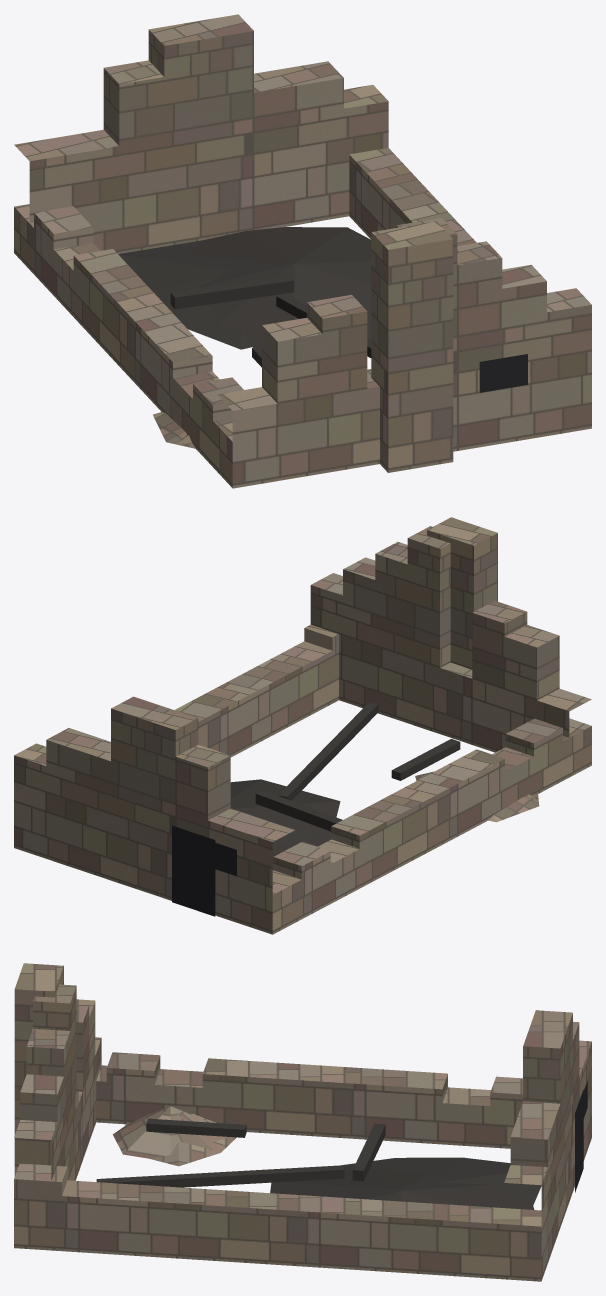
The picture shows the model from 3 angles, top to bottom: view 1: azimuth 30°, elevation 25°; view 2: azimuth 150°, elevation 25°; view 3: azimuth 270°, elevation 25°; orthographic projection. The views are drawn at different scales.
Visible parts, largest first — view 1: b001078_ruin_wall, b001078_ruin_char, b001078_ruin_glass; view 2: b001078_ruin_wall, b001078_ruin_char, b001078_ruin_glass; view 3: b001078_ruin_wall, b001078_ruin_char, b001078_ruin_glass.
Part boxes in pixels (bbox=[...]): b001078_ruin_wall: bbox=[14, 14, 591, 488]; b001078_ruin_char: bbox=[118, 227, 371, 367]; b001078_ruin_glass: bbox=[479, 354, 527, 392]; b001078_ruin_wall: bbox=[14, 517, 591, 934]; b001078_ruin_char: bbox=[230, 702, 460, 870]; b001078_ruin_glass: bbox=[172, 825, 236, 916]; b001078_ruin_wall: bbox=[14, 963, 591, 1281]; b001078_ruin_char: bbox=[96, 1118, 541, 1209]; b001078_ruin_glass: bbox=[575, 1081, 587, 1192].
Size of the model in its own units: 6.94 by 3.6 by 9.5.
3 materials, 1 textured.
